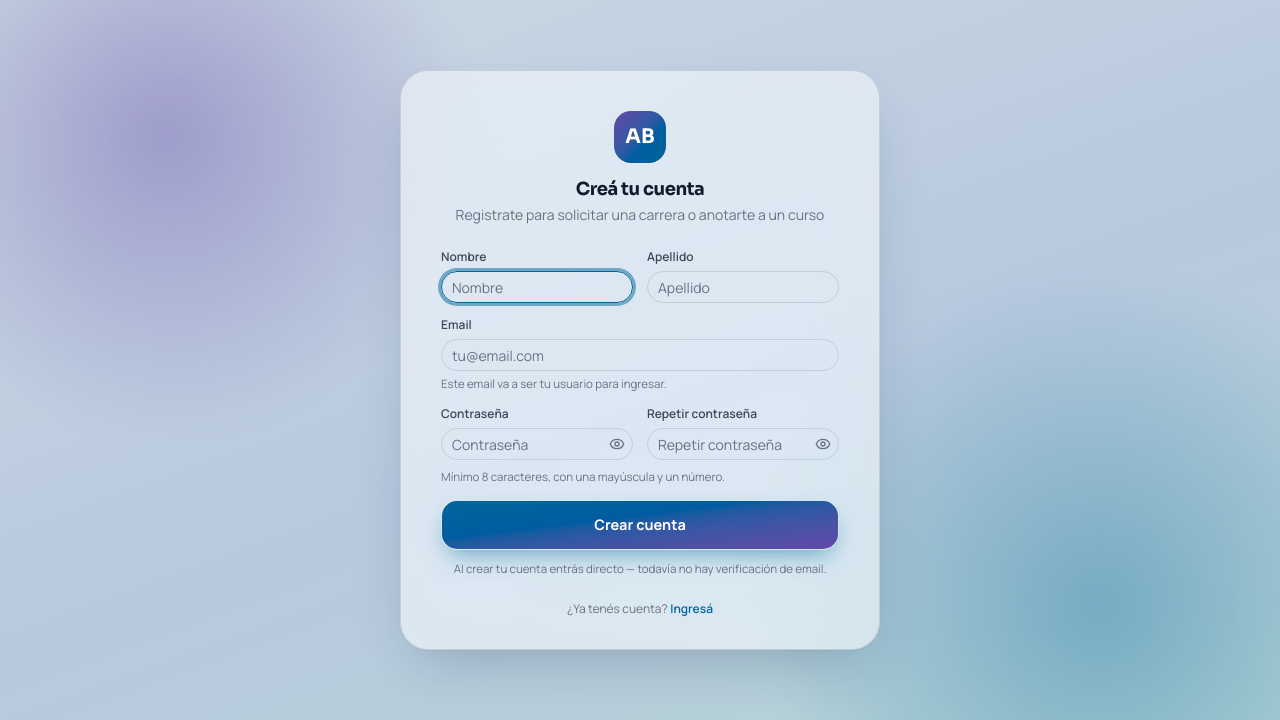
Test case: Registrarse › muestra "Ese email ya está registrado." cuando el backend devuelve 409
The width and height of the screenshot is (1280, 720).
Type "Sofía" into the field with placeholder "Nombre" at (537, 287), box 441,271 -> 633,303
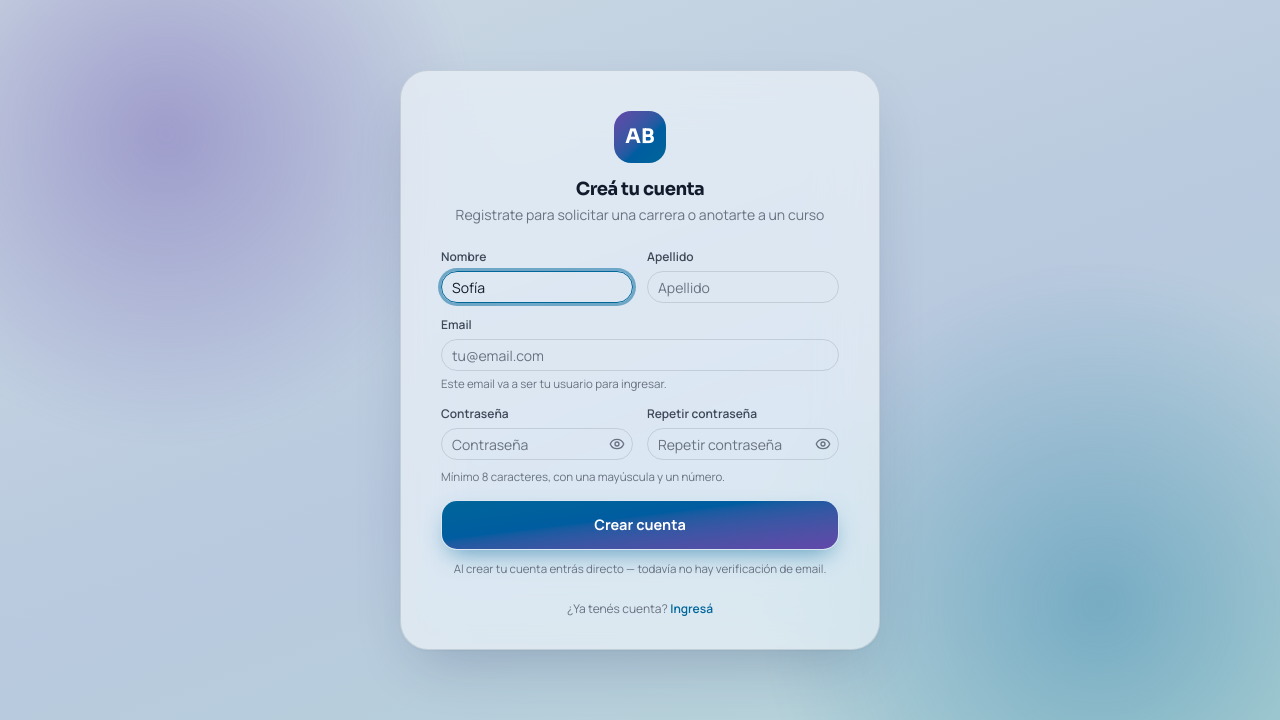
Type "Ramírez" into the field with placeholder "Apellido" at (743, 287), box 647,271 -> 839,303
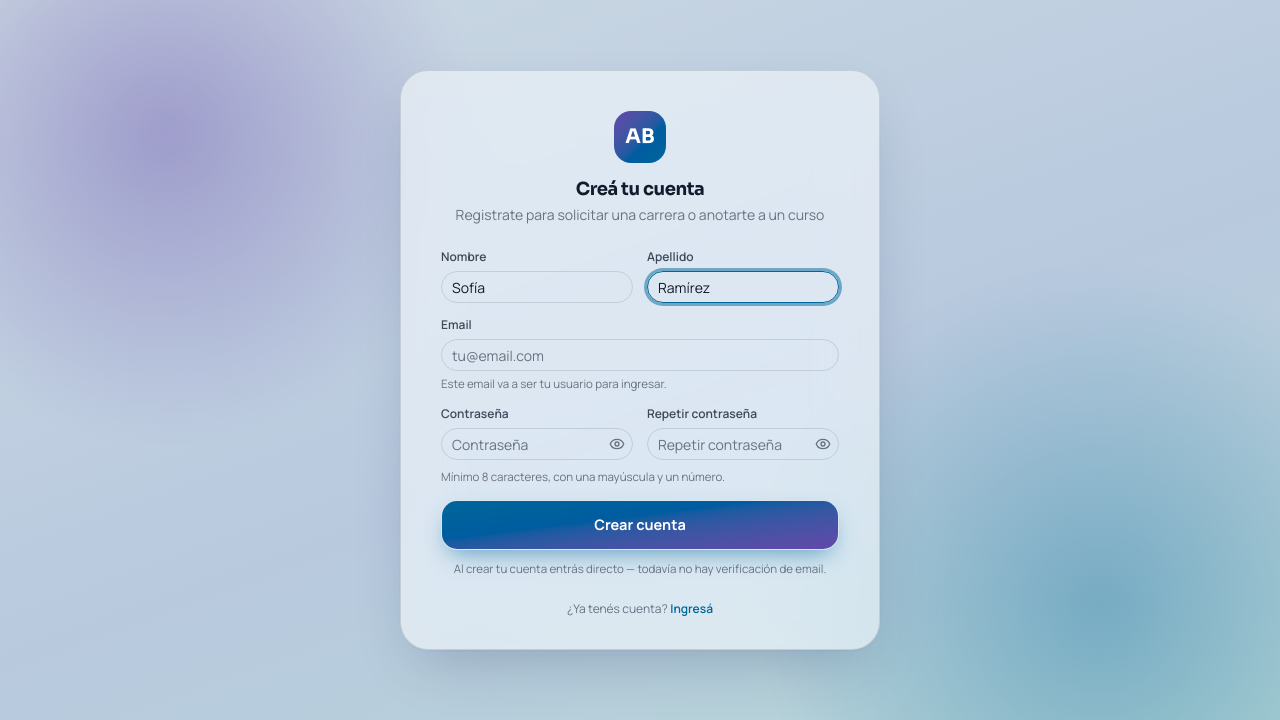
Type "sofia@example.com" into the field with placeholder "tu@email.com" at (640, 355), box 441,339 -> 839,371
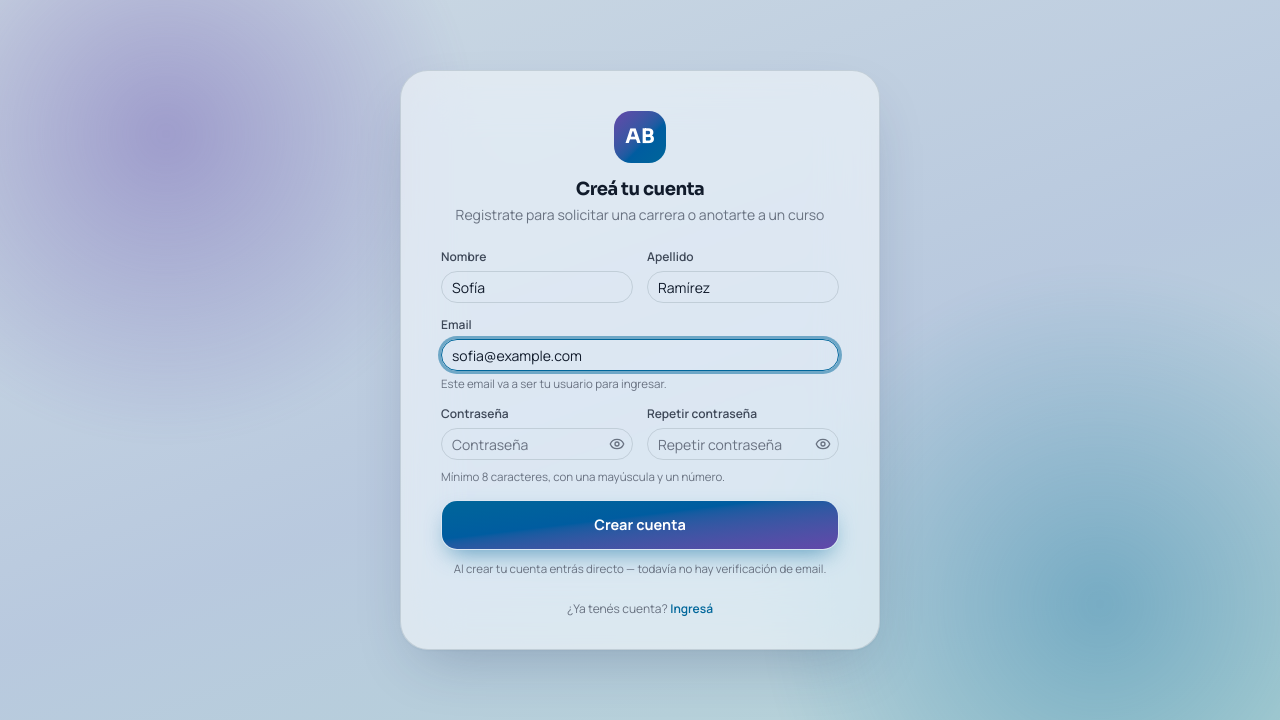
Type "Test1234" into the password field with placeholder "Contraseña" at (537, 444), box 441,428 -> 633,460
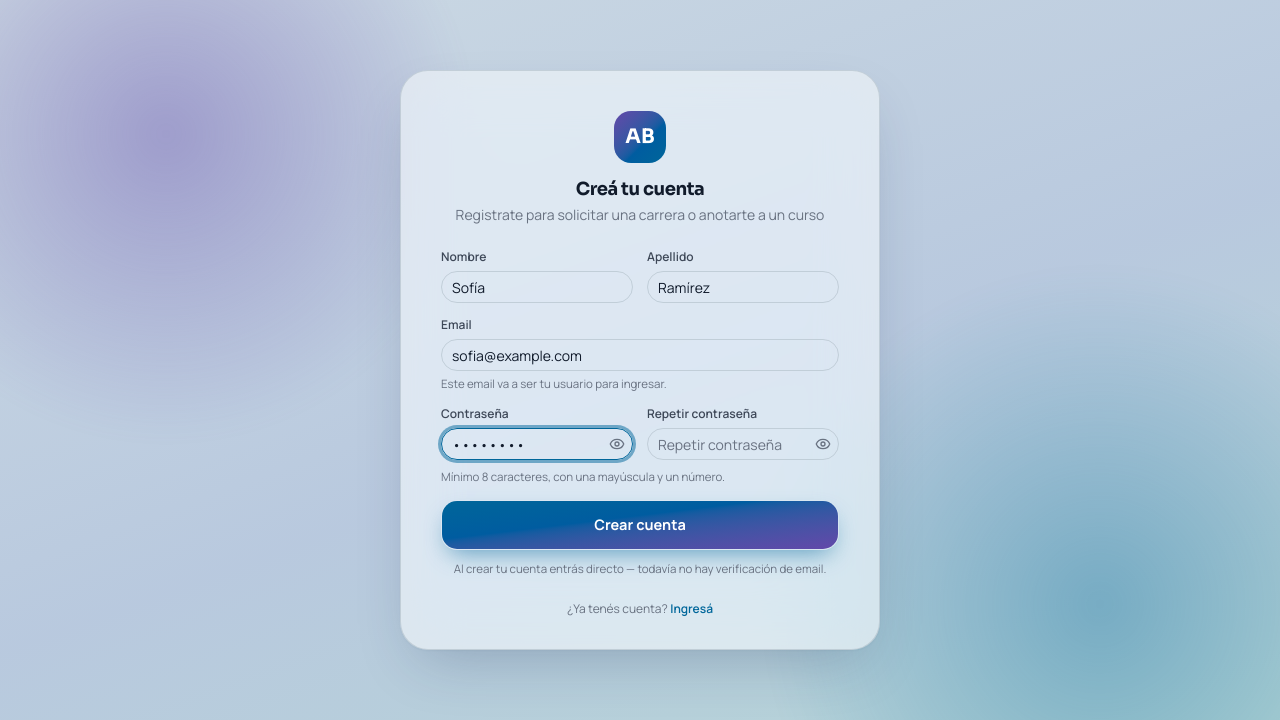
Type "Test1234" into the password field with placeholder "Repetir contraseña" at (743, 444), box 647,428 -> 839,460
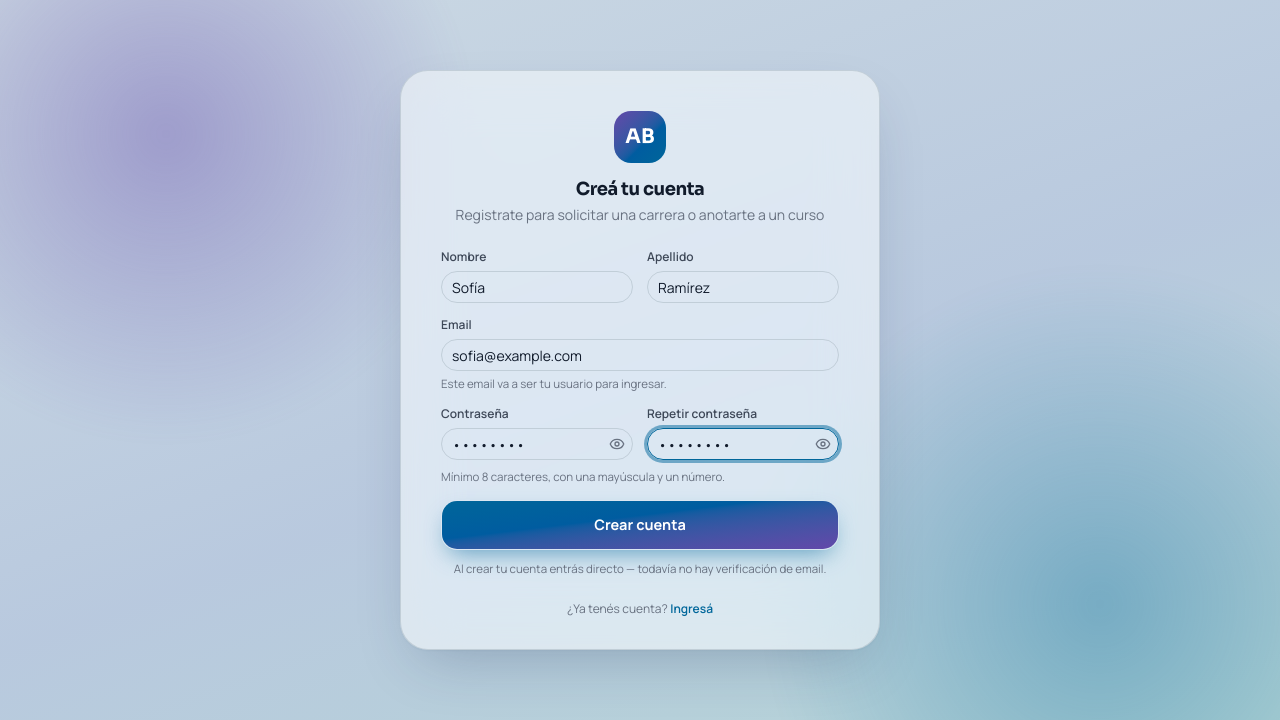
Click the button "Crear cuenta" at (640, 525), box 441,500 -> 839,550
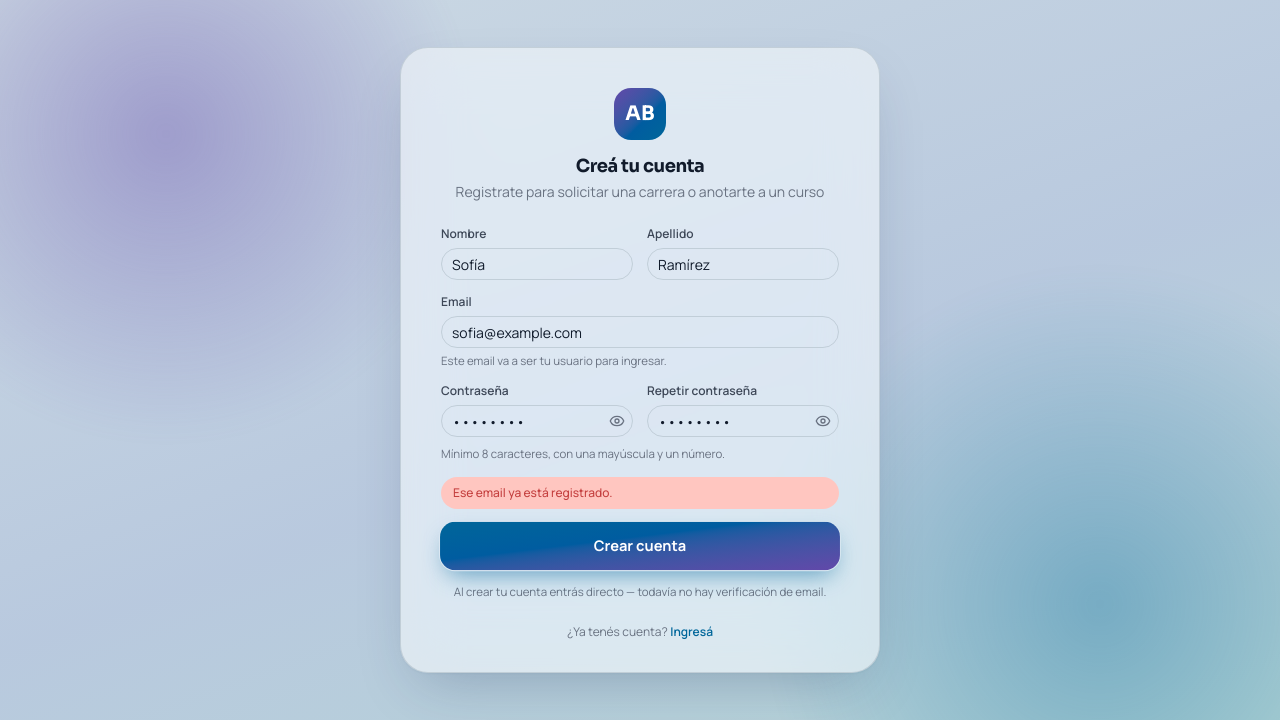
expect the text "Ese email ya está registrado." is shown: met, box 441,477 -> 839,509
